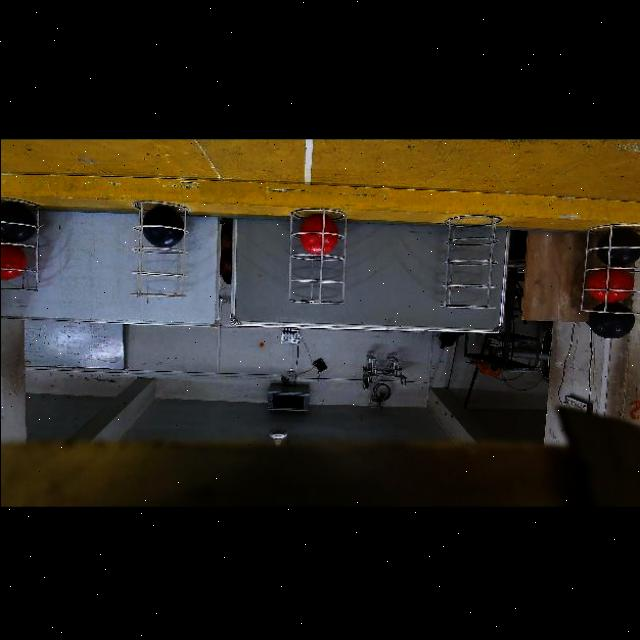P: (142, 205, 184, 246), (596, 228, 640, 266), (588, 301, 634, 337), (0, 200, 36, 242)
R: (587, 268, 633, 302), (299, 213, 337, 252), (0, 243, 26, 279)
S: (282, 206, 358, 306), (442, 216, 503, 308), (134, 196, 188, 296), (0, 189, 48, 297), (570, 236, 630, 316)
